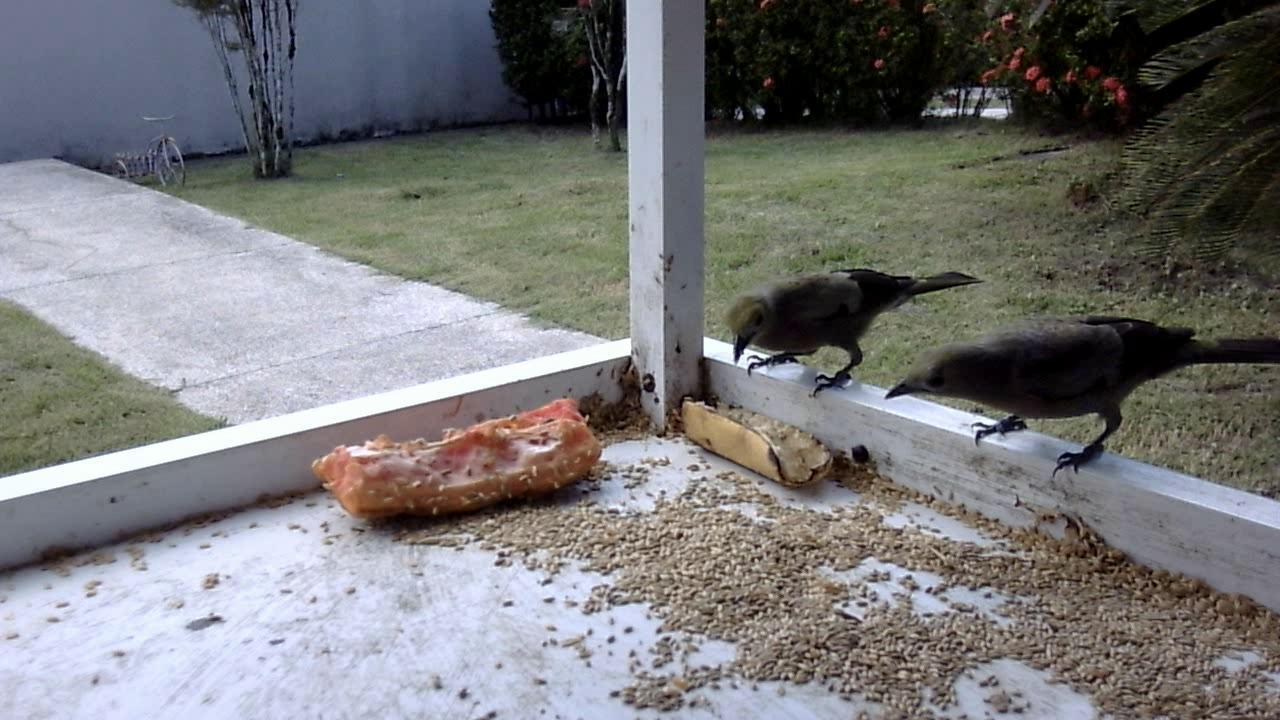sanhaco_do_coqueiro: (878, 313, 1259, 491), (723, 264, 978, 406)
